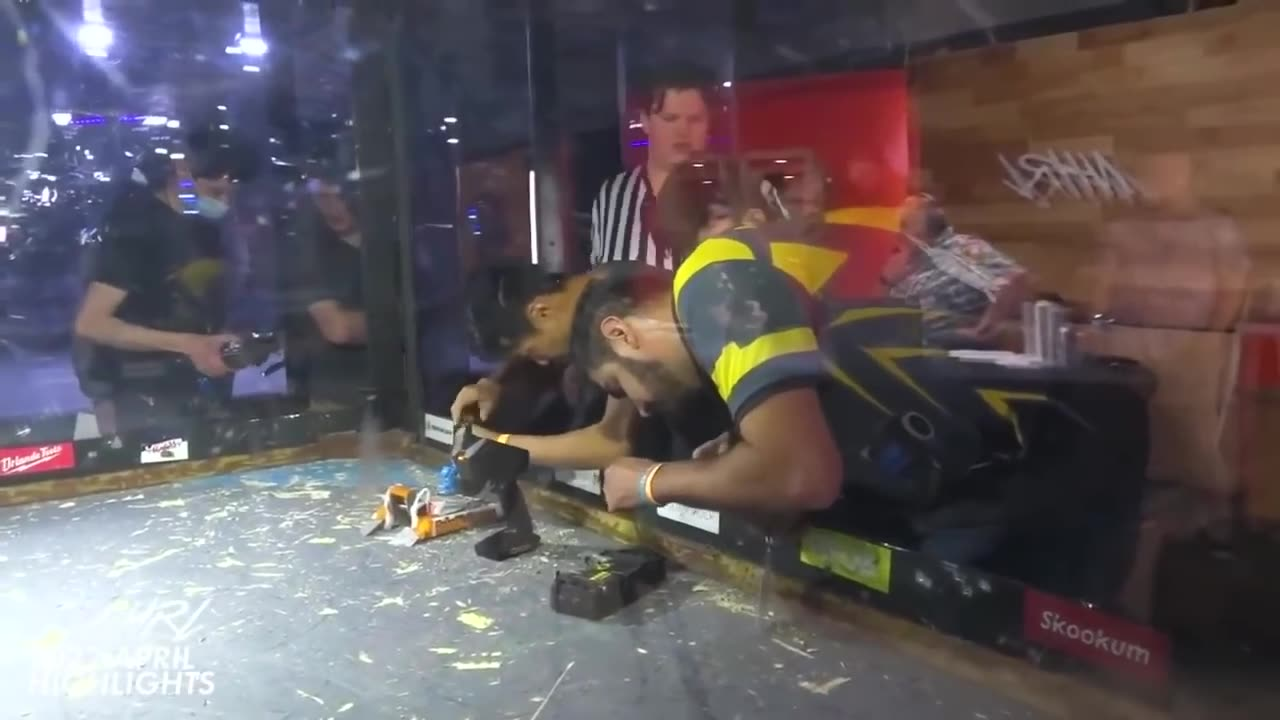combatbot: (552, 542, 668, 623), (365, 482, 506, 547)
